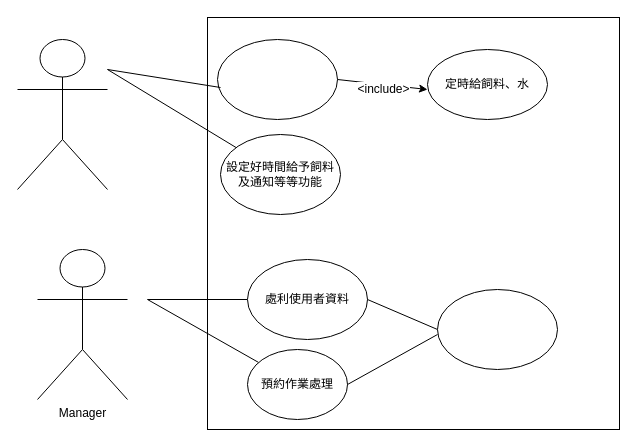
This 637x447 diagram has some shape labels left out. Here are the shapes that lost their labels. From the top down, the centre of each, then its label:
At (277,79): "查看寵物狀況".
At (62,114): "User".
At (497,329): "資料及時修改更新".
